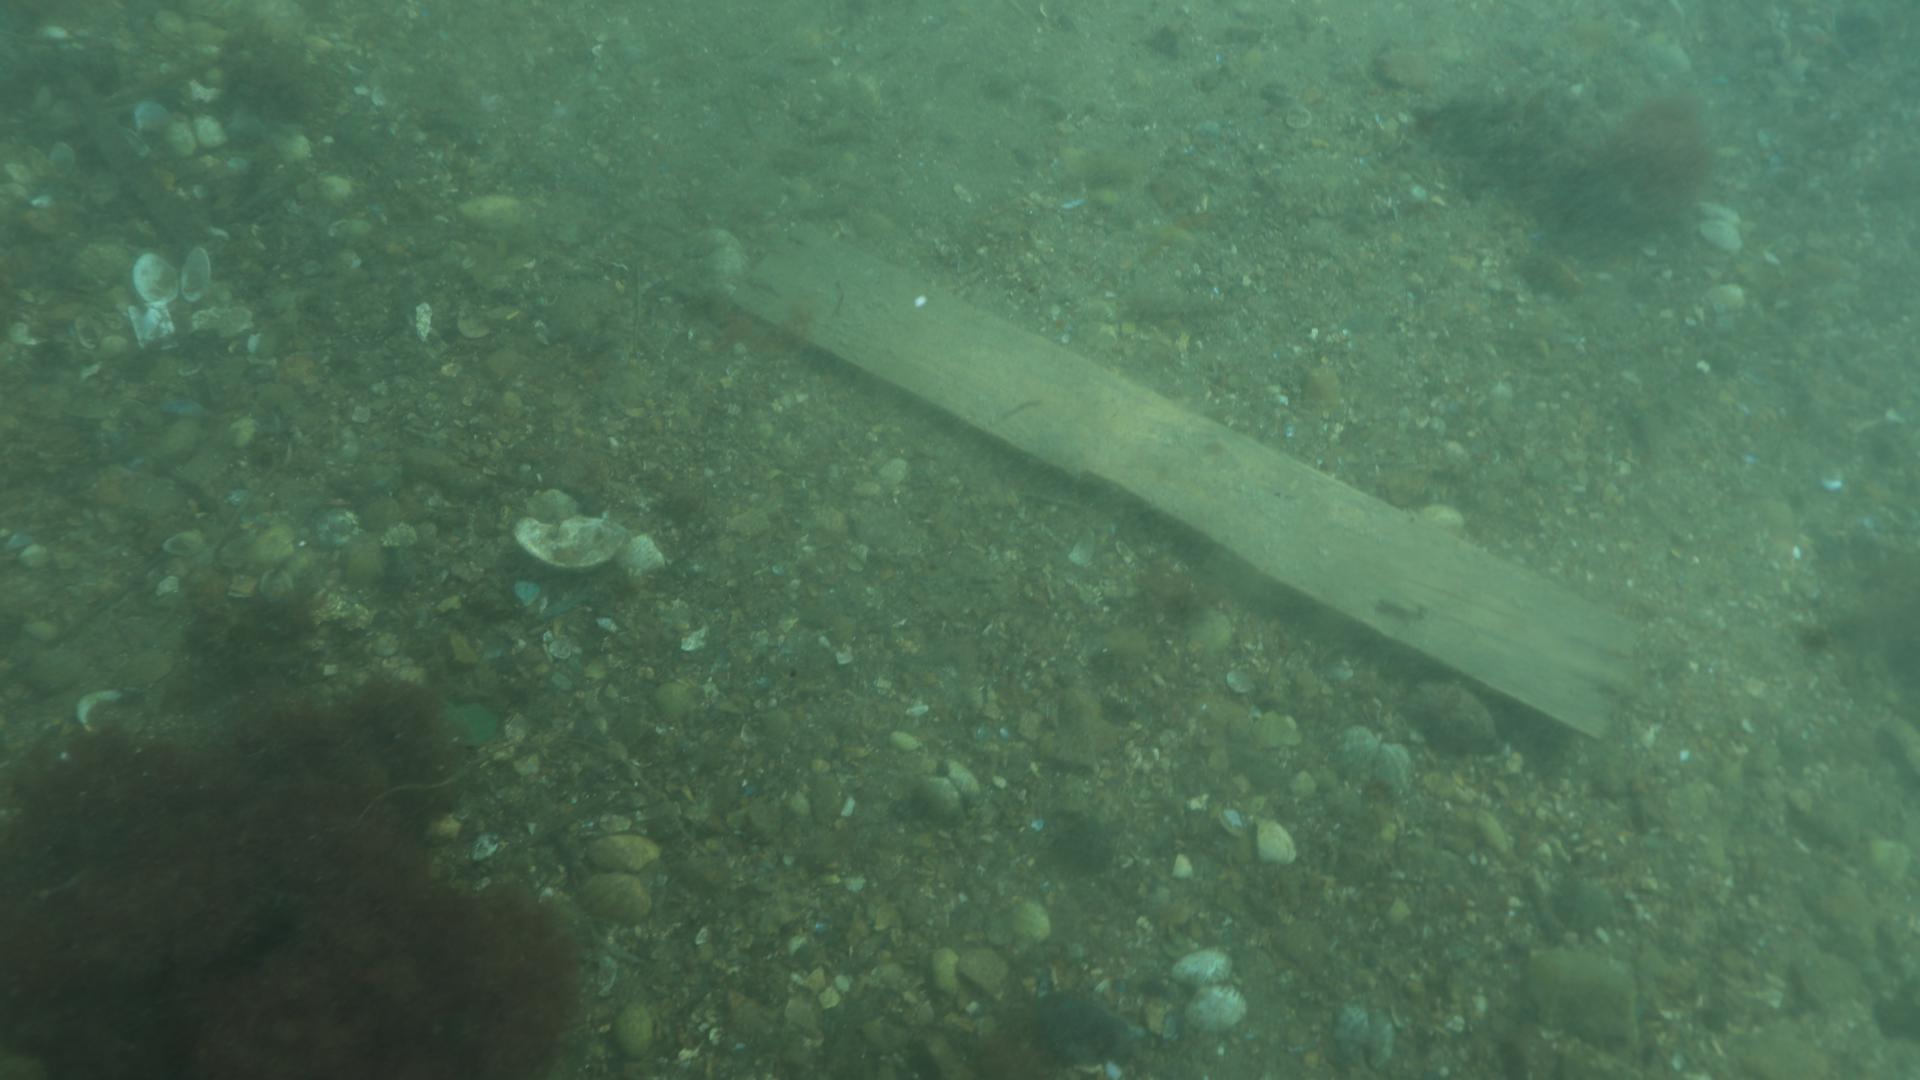wood: (727, 219, 1651, 748)
